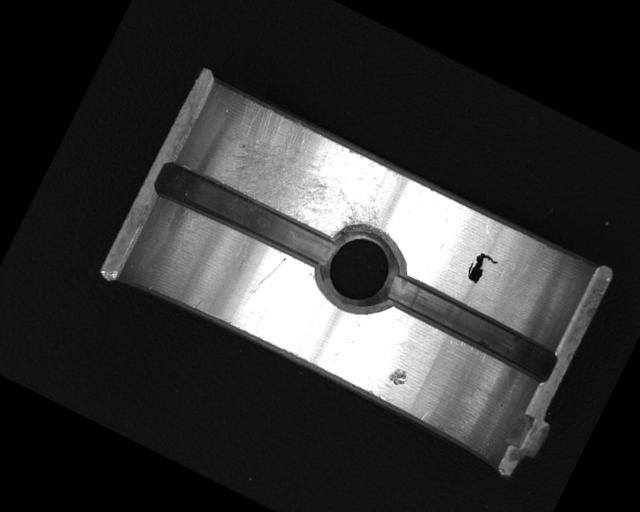blot: (463, 249, 499, 289)
bruise: (386, 364, 411, 389)
gap: (150, 154, 341, 278), (380, 269, 561, 384)
hole: (308, 213, 415, 323)
nick: (250, 249, 288, 300)
scratch: (201, 93, 403, 251)
